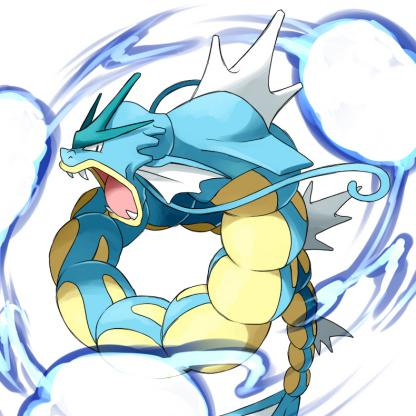Gyarados: (59, 71, 378, 416)
